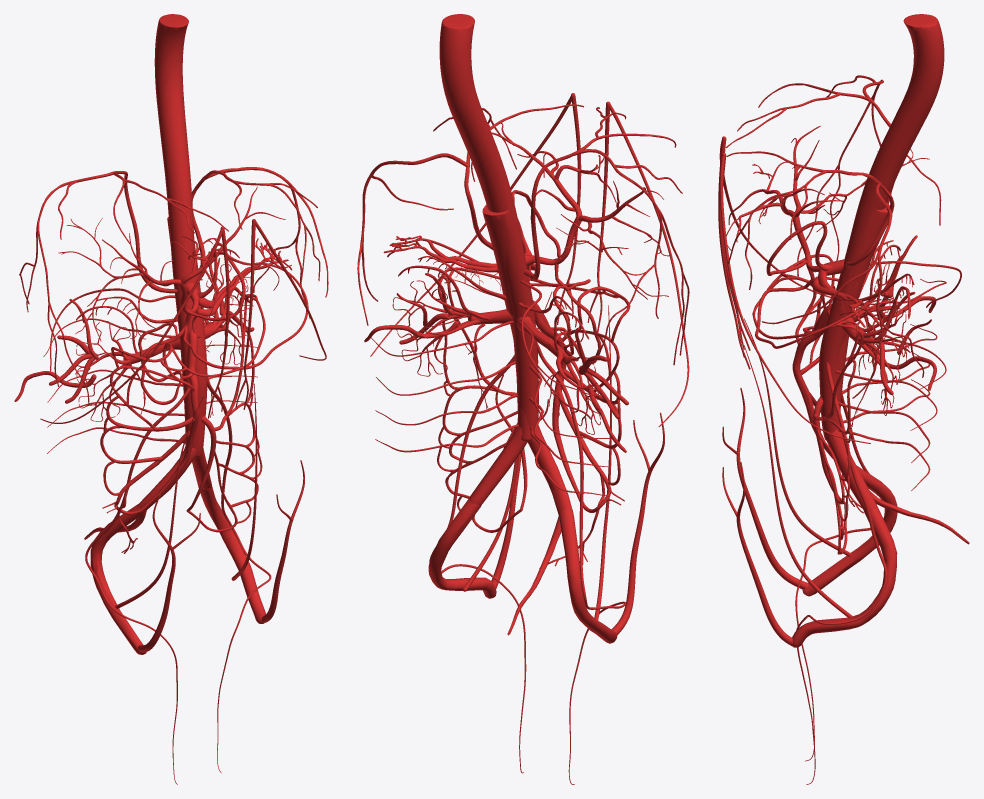
File: arteries.abdomen.glb
The picture shows the model from 3 angles, left to right: view 1: azimuth 30°, elevation 25°; view 2: azimuth 150°, elevation 25°; view 3: azimuth 270°, elevation 25°; orthographic projection. The views are drawn at different scales.
Visible parts, largest first — view 1: descending_aorta, right_inferior_phrenic_artery, left_inferior_phrenic_artery, right_external_iliac_artery, left_external_iliac_artery, lumbar_artery, abdominal_aorta, right_testicular_artery, left_testicular_artery, splenic_artery, right_colic_artery, sigmoid_artery (+14 smaller); view 2: descending_aorta, right_inferior_phrenic_artery, lumbar_artery, left_inferior_phrenic_artery, right_external_iliac_artery, left_external_iliac_artery, abdominal_aorta, right_testicular_artery, right_superficial_epigastric_artery, left_common_iliac_artery, left_testicular_artery, right_common_iliac_artery (+17 smaller); view 3: descending_aorta, abdominal_aorta, left_inferior_phrenic_artery, left_external_iliac_artery, right_inferior_phrenic_artery, lumbar_artery, right_external_iliac_artery, left_testicular_artery, right_superficial_epigastric_artery, left_superficial_epigastric_artery, left_common_iliac_artery, splenic_artery (+15 smaller).
Part boxes in pixels (x1,y1,x2,y2): descending_aorta: [154, 14, 203, 458]; right_inferior_phrenic_artery: [19, 171, 228, 404]; left_inferior_phrenic_artery: [192, 167, 328, 318]; right_external_iliac_artery: [90, 504, 146, 654]; left_external_iliac_artery: [200, 486, 265, 623]; lumbar_artery: [43, 304, 257, 453]; abdominal_aorta: [167, 217, 207, 457]; right_testicular_artery: [85, 380, 190, 784]; left_testicular_artery: [207, 378, 271, 773]; splenic_artery: [196, 238, 292, 316]; right_colic_artery: [106, 365, 194, 431]; sigmoid_artery: [186, 440, 262, 532]; descending_aorta: [439, 14, 538, 442]; right_inferior_phrenic_artery: [523, 107, 689, 365]; lumbar_artery: [371, 321, 610, 496]; left_inferior_phrenic_artery: [357, 104, 583, 325]; right_external_iliac_artery: [558, 508, 617, 643]; left_external_iliac_artery: [428, 498, 496, 598]; abdominal_aorta: [482, 204, 538, 441]; right_testicular_artery: [537, 342, 626, 784]; right_superficial_epigastric_artery: [611, 412, 664, 634]; left_common_iliac_artery: [469, 424, 526, 505]; left_testicular_artery: [429, 355, 526, 773]; right_common_iliac_artery: [527, 425, 572, 514]; descending_aorta: [823, 14, 944, 436]; abdominal_aorta: [819, 203, 889, 441]; left_inferior_phrenic_artery: [726, 151, 924, 398]; left_external_iliac_artery: [792, 508, 897, 647]; right_inferior_phrenic_artery: [726, 75, 941, 276]; lumbar_artery: [835, 278, 946, 490]; right_external_iliac_artery: [802, 465, 897, 596]; left_testicular_artery: [796, 362, 887, 784]; right_superficial_epigastric_artery: [722, 388, 808, 589]; left_superficial_epigastric_artery: [722, 462, 795, 647]; left_common_iliac_artery: [827, 429, 877, 511]; splenic_artery: [812, 269, 893, 334].
Bounding box in the file's own units: 0.236 × 0.5925 × 0.1758.
